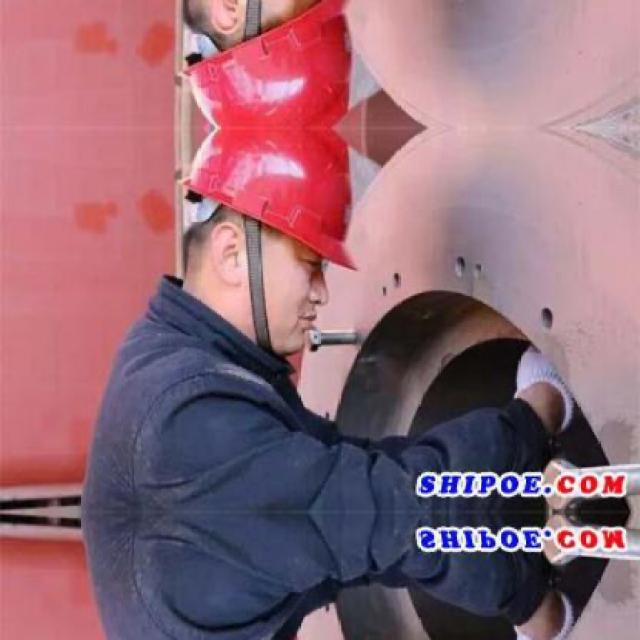helmet: (163, 131, 365, 350), (161, 0, 364, 126)
